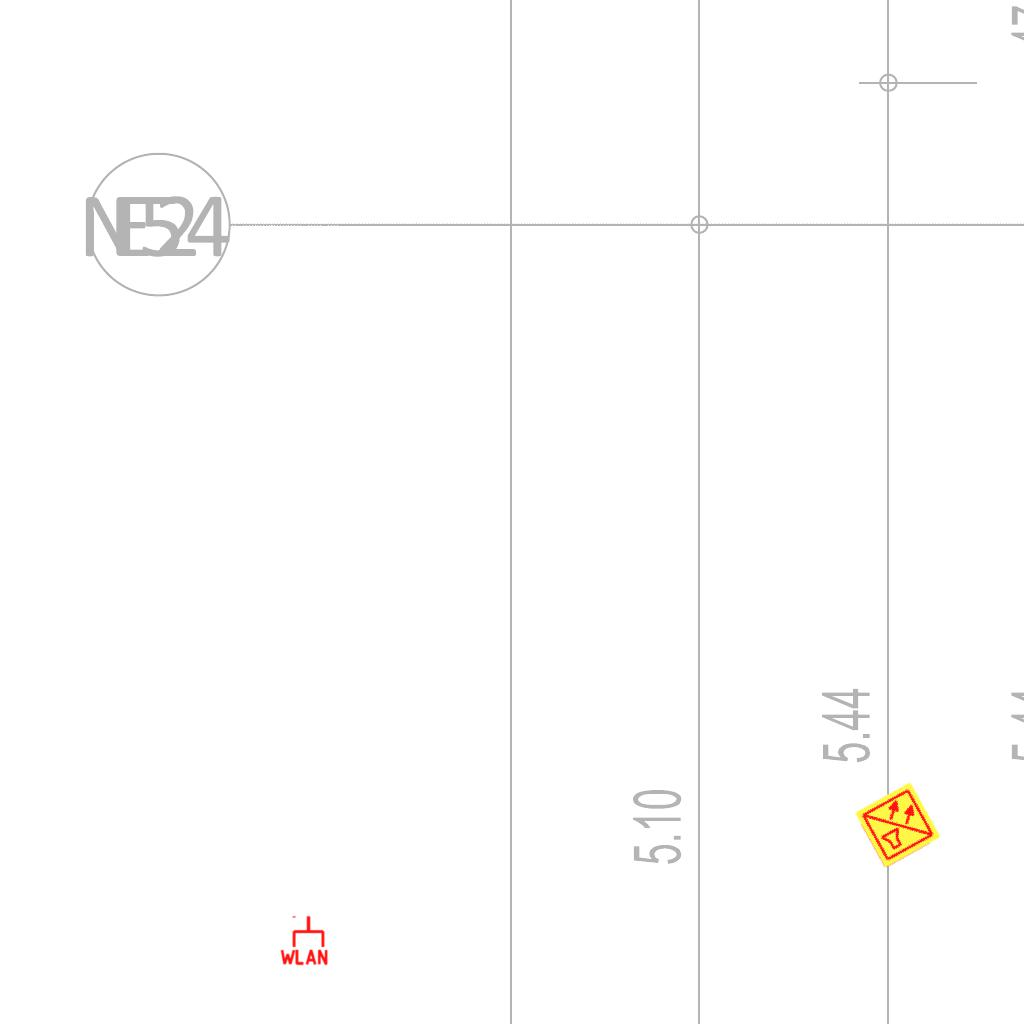OKW_Multisensormelder_(Kombination_optischer_Rauch-Kahlenmonoxid_Waerme-Melder): (853, 780, 943, 870)
WLAN: (278, 914, 330, 966)
